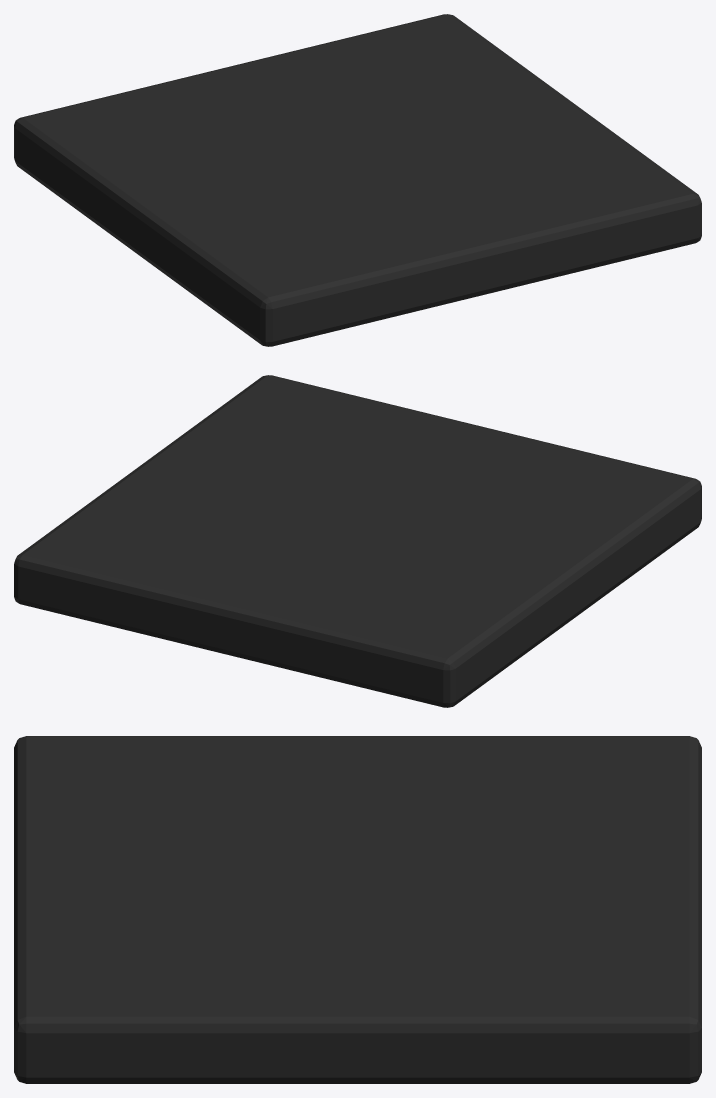
File: TileBlack.obj
3 views of the same model, one above another, from view 1: azimuth 30°, elevation 25°; view 2: azimuth 150°, elevation 25°; view 3: azimuth 270°, elevation 25° (orthographic). The views are drawn at different scales.
Visible parts, largest first — view 1: Plane; view 2: Plane; view 3: Plane.
Part boxes in pixels (x1,y1,x2,y2): Plane: (14,14,701,346); Plane: (14,375,701,707); Plane: (14,736,701,1083).
Bounding box in the file's own units: 1 × 0.1071 × 1.
1 material, 1 textured.
